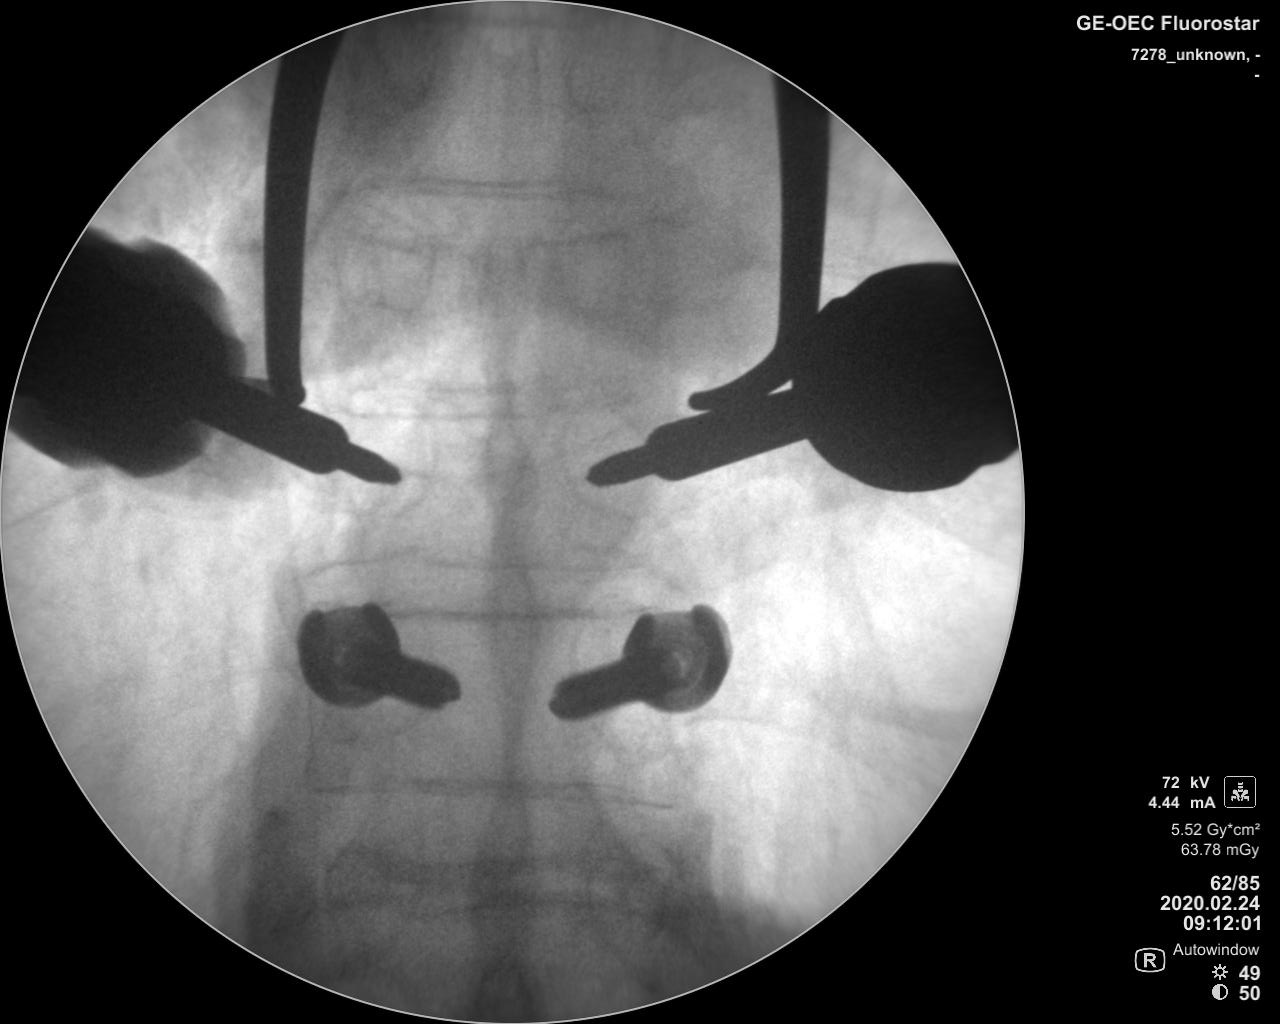eyes: (568, 598, 673, 754), (338, 387, 432, 519), (338, 201, 434, 321), (580, 839, 678, 946), (556, 408, 648, 520), (555, 227, 635, 321)
line: (344, 836, 659, 875), (320, 772, 624, 804), (316, 546, 620, 577), (357, 377, 628, 403), (354, 404, 630, 428), (408, 169, 574, 207), (428, 226, 620, 257), (395, 600, 625, 625)
nose: (464, 777, 545, 953), (475, 546, 543, 726), (473, 379, 541, 541), (473, 220, 531, 363)
